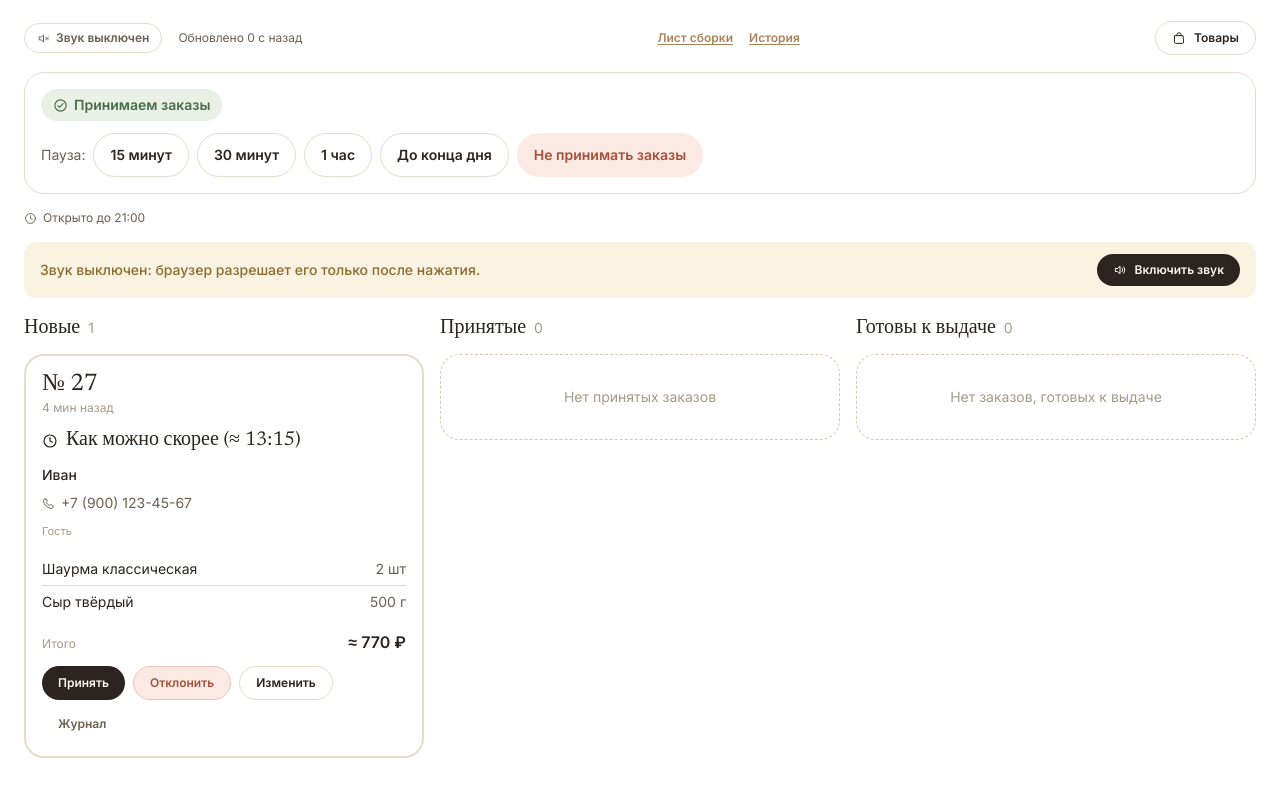
Scenario: OrdersScreenPage › on 409 VersionMismatch replaces the card with the order from the body, says why, and does not repeat the action
The width and height of the screenshot is (1280, 800).
Step 1. Click the button "Принять" → [84, 683], box x1=42 y1=666 x2=125 y2=700
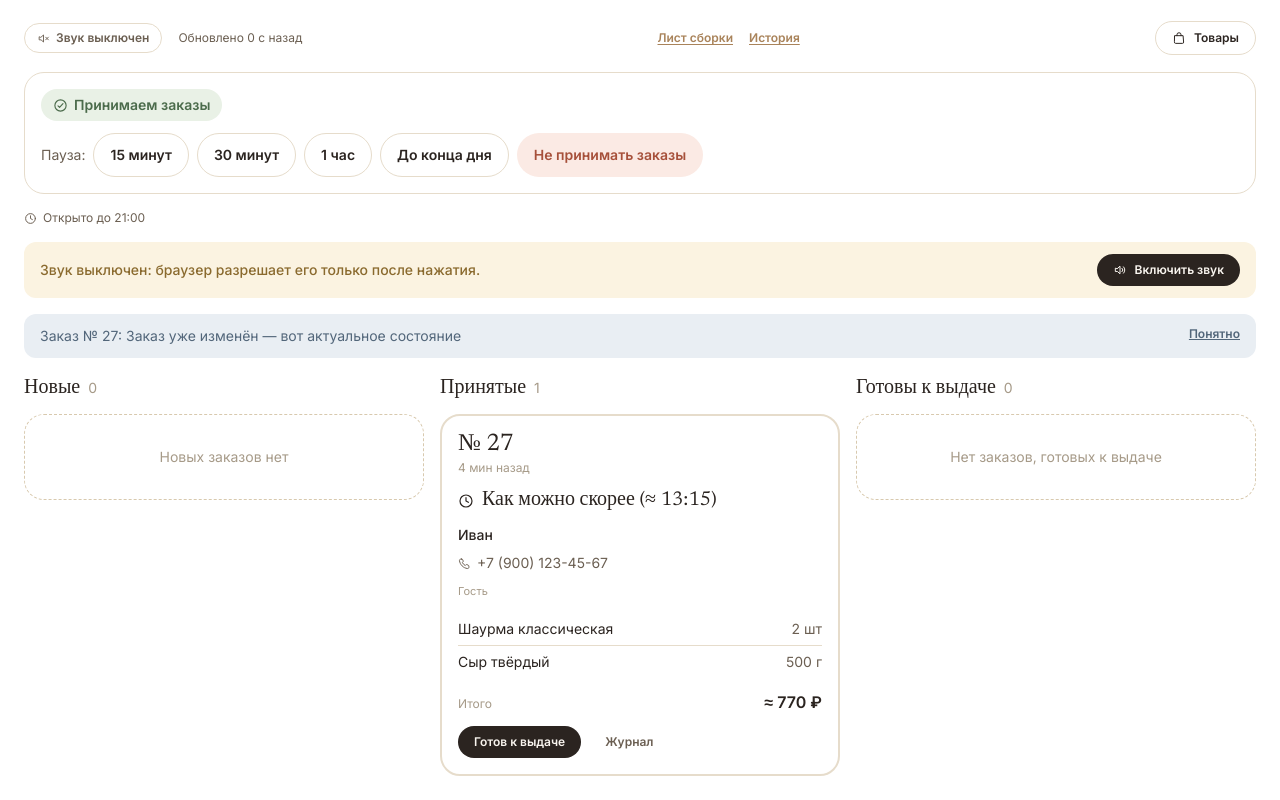
Expected: the element with test id "order-card-27" is shown, x1=440 y1=414 x2=840 y2=776
Expected: the text "Заказ № 27: Заказ уже изменён — вот актуальное состояние" is shown, x1=40 y1=326 x2=461 y2=346
